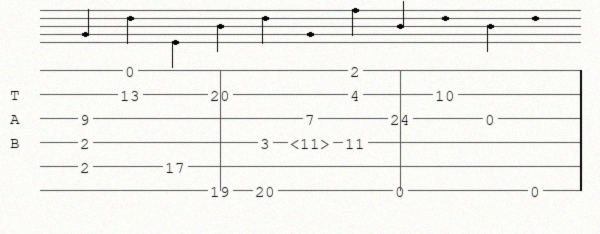0: (125, 63, 139, 77), (395, 183, 409, 197), (485, 111, 499, 125), (530, 183, 544, 197)
10: (435, 87, 459, 101)
11: (345, 135, 369, 149)
13: (120, 87, 144, 101)
17: (165, 159, 189, 173)
19: (210, 183, 234, 197)
2: (80, 159, 94, 173), (80, 135, 94, 149), (350, 63, 364, 77)
20: (210, 87, 234, 101), (255, 183, 279, 197)
24: (390, 111, 414, 125)
3: (260, 135, 274, 149)
4: (350, 87, 364, 101)
7: (305, 111, 319, 125)
9: (80, 111, 94, 125)
harmonic: (290, 135, 334, 150)
